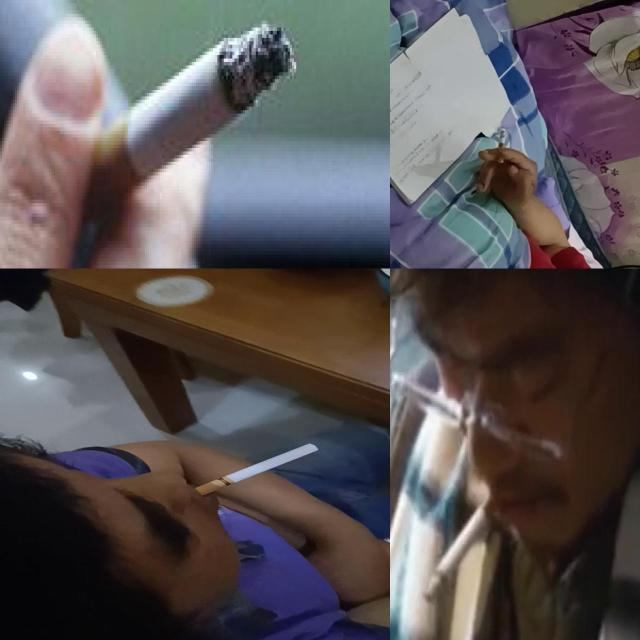smoking: (34, 19, 298, 237), (420, 496, 495, 604), (198, 443, 320, 495), (498, 130, 506, 162)
